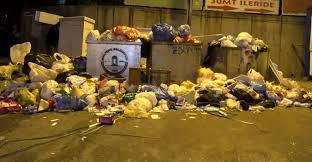Container: (87, 41, 142, 81), (212, 45, 271, 78), (150, 43, 201, 78)
Garbage: (2, 67, 86, 109), (11, 45, 70, 99), (91, 81, 167, 121), (239, 79, 312, 111), (171, 82, 230, 113), (145, 22, 199, 42), (87, 23, 141, 41), (212, 31, 265, 46), (196, 66, 228, 88)
